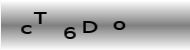6: (62, 26, 77, 40)
D: (82, 20, 98, 34)
T: (32, 10, 48, 25)
c: (20, 24, 33, 35)
o: (111, 20, 125, 31)
